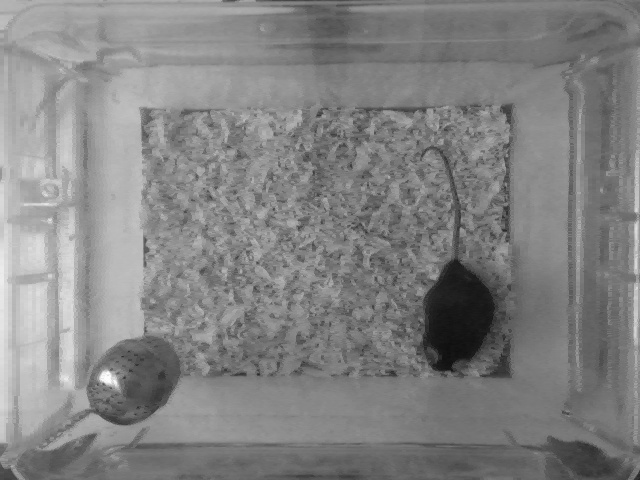mice: (418, 135, 498, 377)
